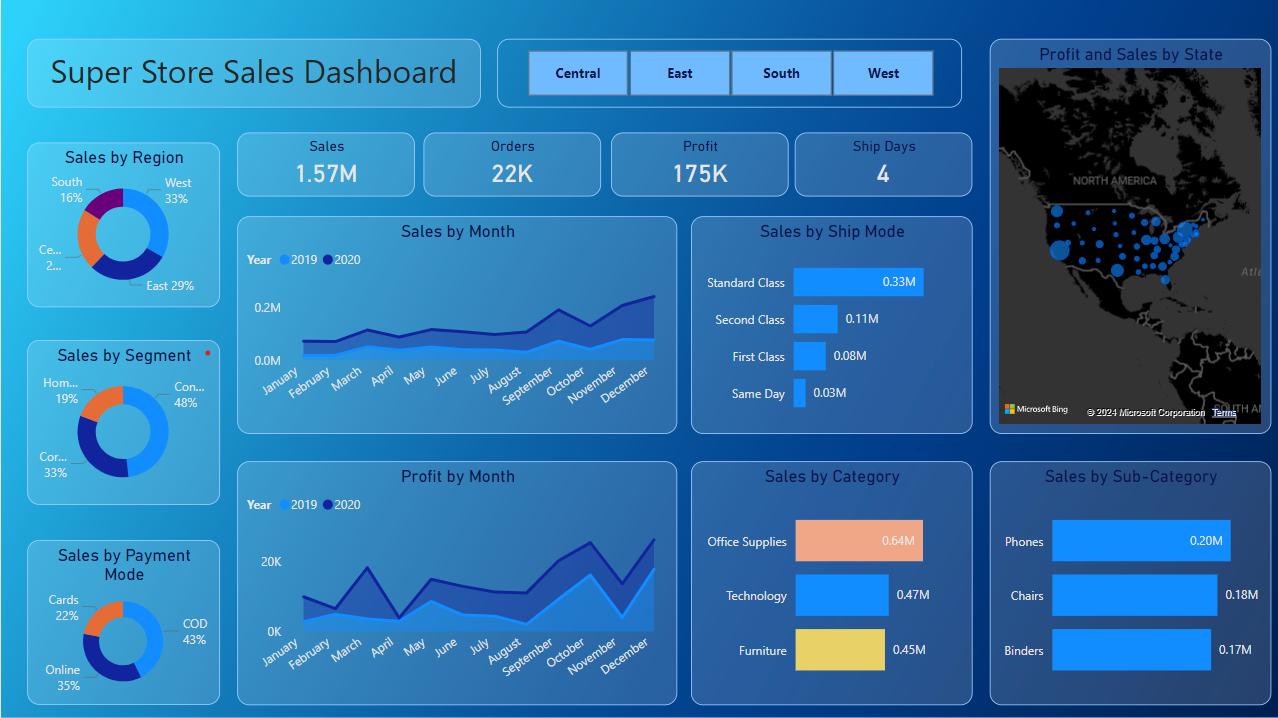

This screenshot's page, from the dashboard's own definition file:
{"tool":"powerbi","page":{"name":"Page 1","canvas":[1280,720],"ordinal":0},"visuals":[{"type":"clusteredBarChart","title":"Sales by Category","fields":{"Category":["SuperStore_Sales_Dataset.Category"],"Y":["Sum(SuperStore_Sales_Dataset.Sales)"]},"box":[690,461.2,281.2,243.8],"z":0},{"type":"clusteredBarChart","title":"Sales by Sub-Category","fields":{"Category":["SuperStore_Sales_Dataset.Sub-Category"],"Y":["Sum(SuperStore_Sales_Dataset.Sales)"]},"box":[988.8,461.2,281.2,243.8],"z":1000},{"type":"clusteredBarChart","title":"Sales by Ship Mode","fields":{"Category":["SuperStore_Sales_Dataset.Ship Mode"],"Y":["Sum(SuperStore_Sales_Dataset.Sales)"]},"box":[690,216.2,281.2,217.5],"z":2000},{"type":"stackedAreaChart","title":"Sales by Month","fields":{"Y":["Sum(SuperStore_Sales_Dataset.Sales)"],"Category":["SuperStore_Sales_Dataset.Order Date.Variation.Date Hierarchy.Month","SuperStore_Sales_Dataset.Order Date.Variation.Date Hierarchy.Day"],"Series":["SuperStore_Sales_Dataset.Order Date.Variation.Date Hierarchy.Year"]},"box":[236.2,216.2,440,217.5],"z":3000},{"type":"stackedAreaChart","title":"Profit by Month","fields":{"Category":["SuperStore_Sales_Dataset.Order Date.Variation.Date Hierarchy.Month","SuperStore_Sales_Dataset.Order Date.Variation.Date Hierarchy.Day"],"Series":["SuperStore_Sales_Dataset.Order Date.Variation.Date Hierarchy.Year"],"Y":["Sum(SuperStore_Sales_Dataset.Profit)"]},"box":[236.2,461.2,440,243.8],"z":4000},{"type":"map","title":"Profit and Sales by State","fields":{"Category":["SuperStore_Sales_Dataset.State"],"Size":["Sum(SuperStore_Sales_Dataset.Sales)"]},"box":[988.8,38.8,281.2,395],"z":5000},{"type":"donutChart","title":"Sales by Segment","fields":{"Category":["SuperStore_Sales_Dataset.Segment"],"Y":["Sum(SuperStore_Sales_Dataset.Sales)"]},"box":[26.2,340,192.5,165],"z":6000},{"type":"donutChart","title":"Sales by Payment Mode","fields":{"Category":["SuperStore_Sales_Dataset.Payment Mode"],"Y":["Sum(SuperStore_Sales_Dataset.Sales)"]},"box":[26.2,540,192.5,165],"z":7000},{"type":"donutChart","title":"Sales by Region","fields":{"Category":["SuperStore_Sales_Dataset.Region"],"Y":["Sum(SuperStore_Sales_Dataset.Sales)"]},"box":[26.2,142.5,192.5,165],"z":8000},{"type":"slicer","fields":{"Values":["SuperStore_Sales_Dataset.Region"]},"box":[496.2,38.8,465,68.8],"z":9000},{"type":"textbox","box":[26.2,38.8,453.8,68.8],"z":10000},{"type":"card","title":"Sales","fields":{"Values":["Sum(SuperStore_Sales_Dataset.Sales)"]},"box":[236.2,132.5,177.5,63.8],"z":11000},{"type":"card","title":"Orders","fields":{"Values":["Sum(SuperStore_Sales_Dataset.Quantity)"]},"box":[422.5,132.5,177.5,63.8],"z":12000},{"type":"card","title":"Ship Days","fields":{"Values":["Avg(SuperStore_Sales_Dataset.AvgDelivery)"]},"box":[793.8,132.5,177.5,63.8],"z":13000},{"type":"card","title":"Profit","fields":{"Values":["Sum(SuperStore_Sales_Dataset.Profit)"]},"box":[610,132.5,177.5,63.8],"z":14000}]}

Visuals, with their boxes in screenshot pixels (x1, y1, x2, y2), scaled from the page's 1280x720 canvas onto the 1278x718 screenshot:
"Sales by Category" clusteredBarChart: l=689, t=460, r=970, b=703
"Sales by Sub-Category" clusteredBarChart: l=987, t=460, r=1268, b=703
"Sales by Ship Mode" clusteredBarChart: l=689, t=216, r=970, b=432
"Sales by Month" stackedAreaChart: l=236, t=216, r=675, b=432
"Profit by Month" stackedAreaChart: l=236, t=460, r=675, b=703
"Profit and Sales by State" map: l=987, t=39, r=1268, b=433
"Sales by Segment" donutChart: l=26, t=339, r=218, b=504
"Sales by Payment Mode" donutChart: l=26, t=538, r=218, b=703
"Sales by Region" donutChart: l=26, t=142, r=218, b=307
slicer - SuperStore_Sales_Dataset.Region: l=495, t=39, r=960, b=107
textbox: l=26, t=39, r=479, b=107
"Sales" card: l=236, t=132, r=413, b=196
"Orders" card: l=422, t=132, r=599, b=196
"Ship Days" card: l=793, t=132, r=970, b=196
"Profit" card: l=609, t=132, r=786, b=196
